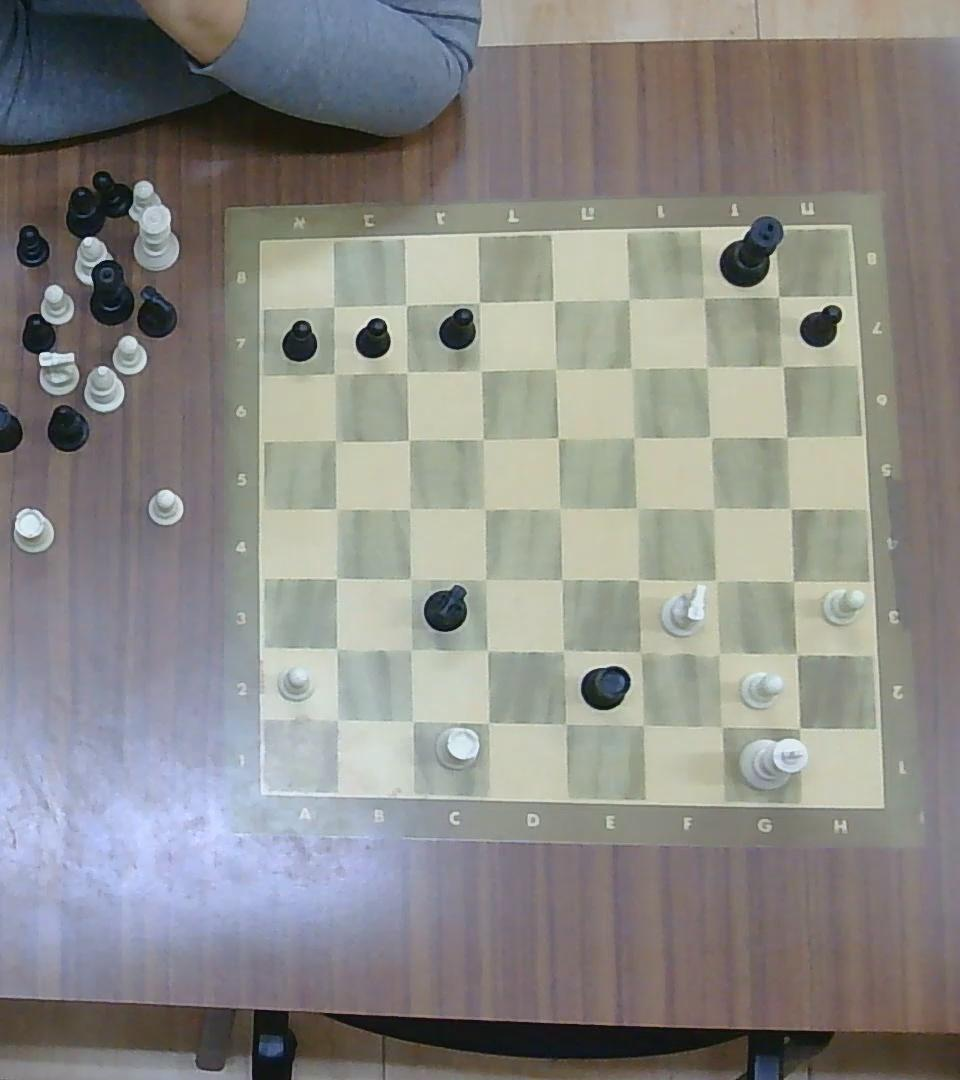xcorner: (781, 710, 815, 743), (701, 636, 735, 669), (705, 708, 736, 742), (548, 706, 580, 738), (626, 707, 658, 739), (625, 635, 656, 667), (780, 637, 812, 668), (320, 703, 352, 734), (471, 706, 502, 737), (622, 563, 652, 594), (396, 705, 427, 735), (548, 634, 578, 665), (698, 492, 728, 523), (776, 565, 807, 595), (622, 492, 652, 523), (394, 563, 425, 593), (471, 634, 501, 664), (700, 565, 730, 595), (548, 563, 577, 594), (615, 284, 645, 313), (776, 493, 806, 522), (470, 564, 500, 593), (617, 351, 646, 381), (395, 635, 424, 664), (545, 493, 574, 522), (470, 493, 499, 522), (321, 633, 350, 662), (321, 562, 350, 591), (545, 422, 573, 451), (621, 422, 649, 451), (692, 284, 720, 312), (542, 352, 570, 380), (539, 286, 567, 314), (321, 425, 350, 452), (466, 354, 495, 381), (693, 352, 722, 379), (468, 424, 495, 452), (395, 425, 423, 452), (322, 494, 350, 521), (769, 352, 797, 379), (465, 288, 493, 315), (396, 494, 423, 521), (698, 423, 725, 450), (772, 422, 800, 448), (321, 360, 349, 385), (393, 358, 420, 383), (766, 284, 792, 309), (394, 291, 419, 315), (323, 294, 345, 316)
